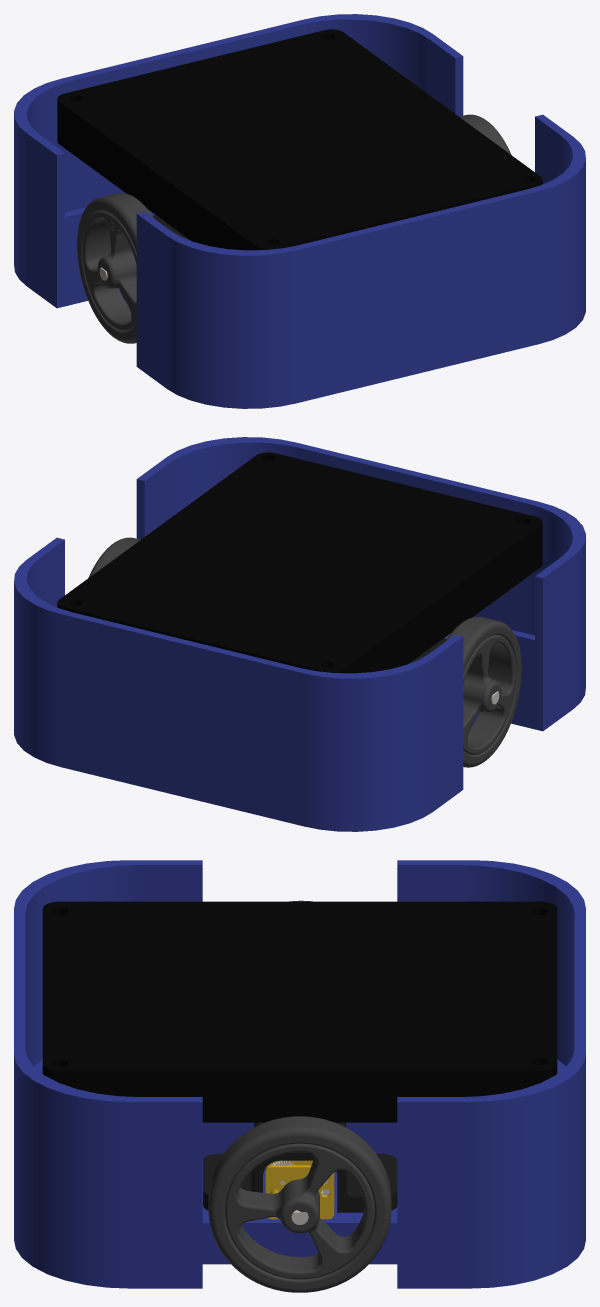
The model's file is VirtualBot.fbx.
3 renders of one model, top to bottom at view 1: azimuth 30°, elevation 25°; view 2: azimuth 150°, elevation 25°; view 3: azimuth 270°, elevation 25°, orthographic. The views are drawn at different scales.
Parts seen in each view (by area): view 1: Body1 (×4); view 2: Body1 (×4); view 3: Body1 (×6).
Part boxes in pixels (x1=…): Body1 (×4): x1=14, y1=14, x2=585, y2=408; Body1 (×4): x1=14, y1=437, x2=585, y2=831; Body1 (×6): x1=14, y1=860, x2=585, y2=1292.
Bounding box in the file's own units: 100 × 39 × 100.
